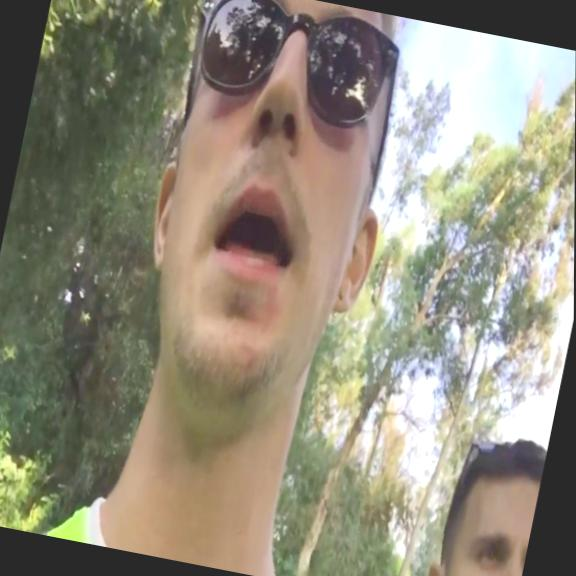safety_vest: (0, 483, 332, 576)
